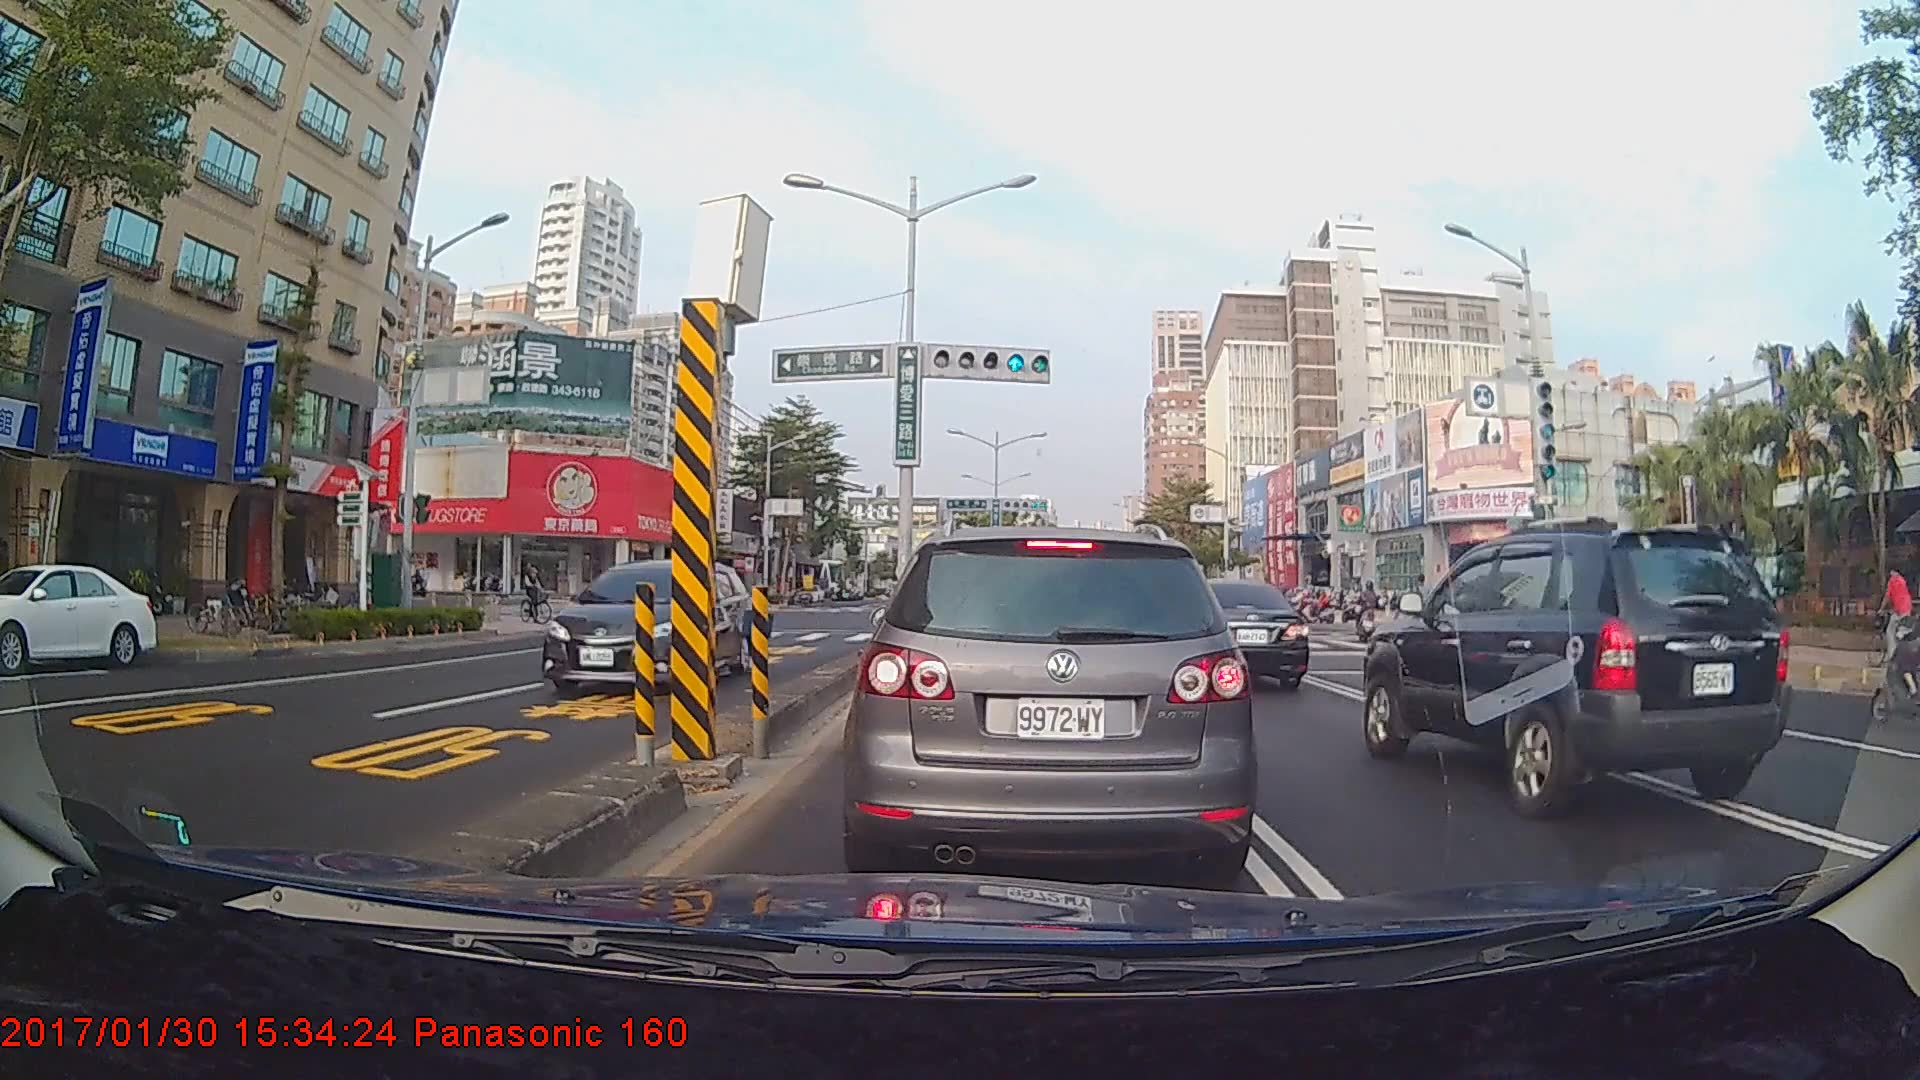rider: (1867, 570, 1920, 664), (518, 559, 561, 629), (1352, 580, 1387, 646), (403, 563, 432, 603)
vehicle: (851, 525, 1254, 873), (1361, 524, 1796, 823), (539, 556, 754, 699), (1144, 576, 1310, 693), (0, 561, 156, 671)
